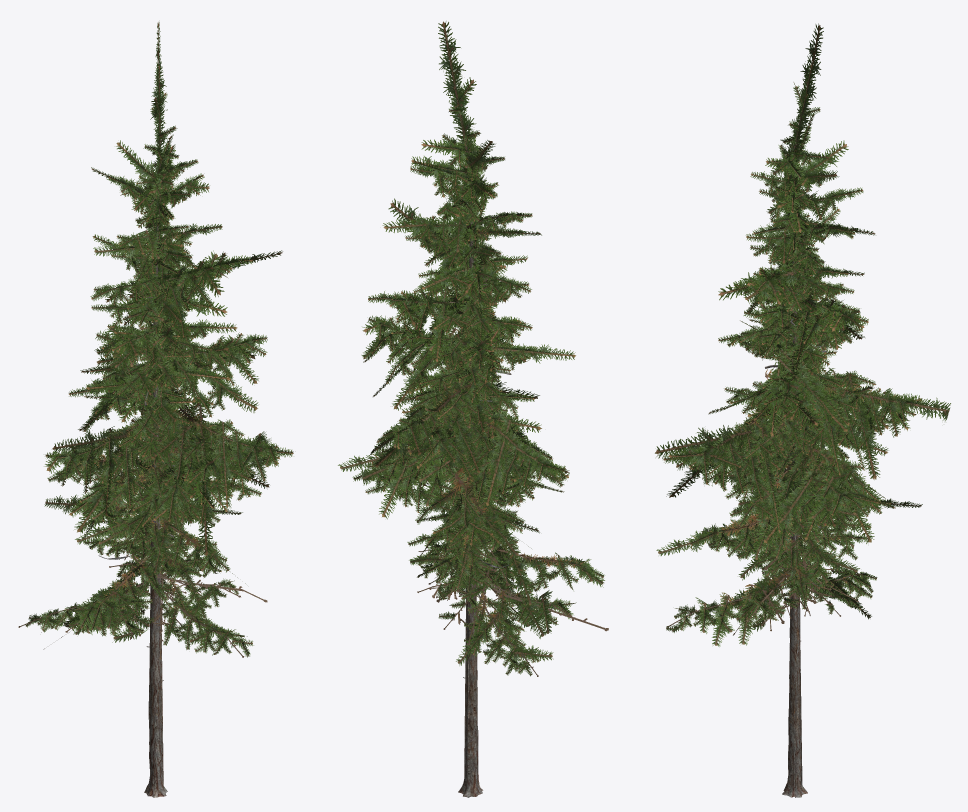
Rendered from mountain_hemlock.glb.
The picture shows the model from 3 angles, left to right: view 1: azimuth 30°, elevation 25°; view 2: azimuth 150°, elevation 25°; view 3: azimuth 270°, elevation 25°; orthographic projection. The views are drawn at different scales.
Parts seen in each view (by area): view 1: MountainHemlock, MountainHemlockFar; view 2: MountainHemlock, MountainHemlockFar; view 3: MountainHemlock, MountainHemlockFar.
Boxes of the visible parts, x1,y1,x2,y2 form: MountainHemlock: (18,65,293,797); MountainHemlockFar: (41,22,282,789); MountainHemlock: (352,60,604,796); MountainHemlockFar: (338,21,608,797); MountainHemlock: (663,63,921,797); MountainHemlockFar: (655,23,950,797).
Bounding box in the file's own units: 7.71 × 23.37 × 8.27.
Materials: 9 (9 with a texture image).
